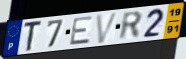2: (141, 7, 167, 40)
7: (46, 18, 67, 49)
E: (68, 15, 95, 47)
R: (118, 11, 144, 42)
T: (23, 19, 44, 53)
V: (95, 11, 120, 45)
